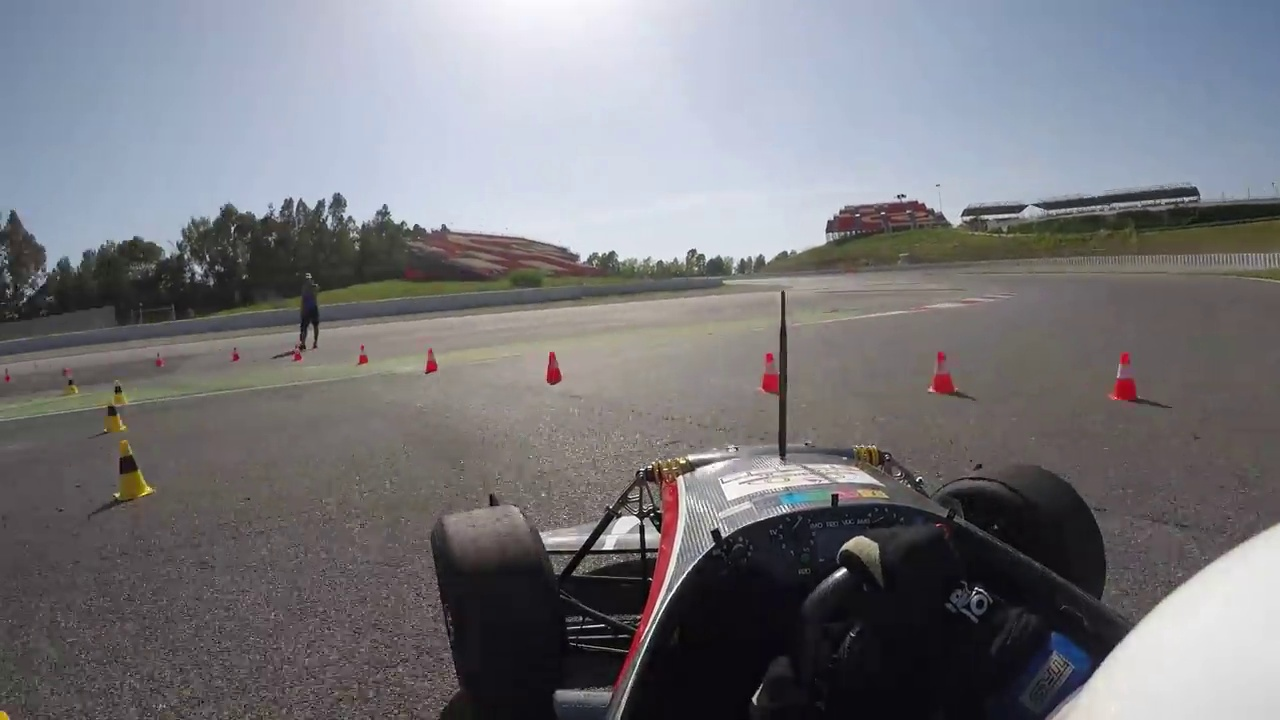Cone: (116, 440, 150, 504), (1108, 353, 1143, 404), (927, 349, 958, 398), (759, 349, 784, 400), (540, 349, 567, 386), (104, 395, 125, 434)
